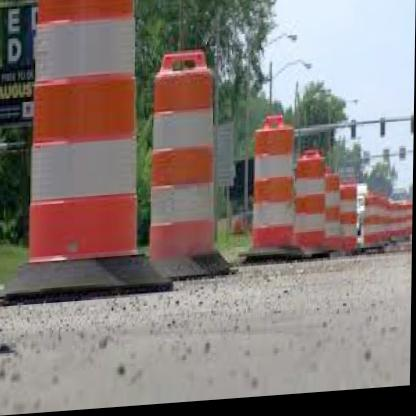obstacle: (26, 0, 142, 266), (147, 52, 219, 269), (252, 119, 296, 253), (297, 154, 328, 257)
